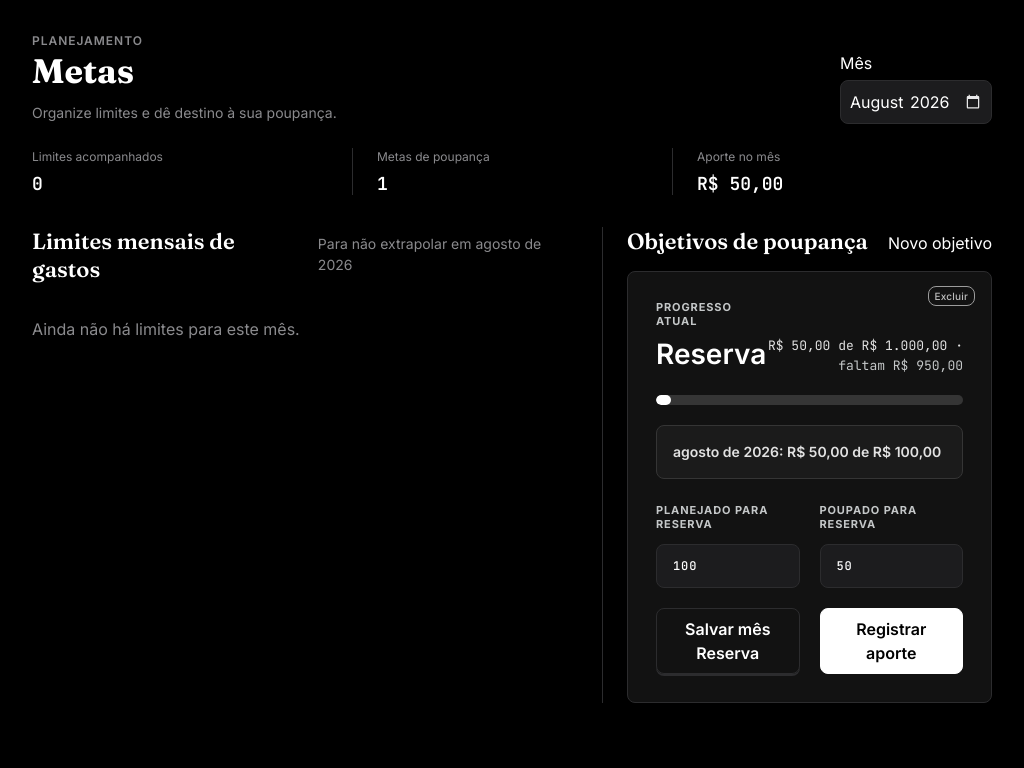
Test case: GoalsPage › keeps a goal after rejected deletion
The image size is (1024, 768).
Click the button with aria-label "Excluir objetivo Reserva" at (951, 296), box [928,286,975,306]
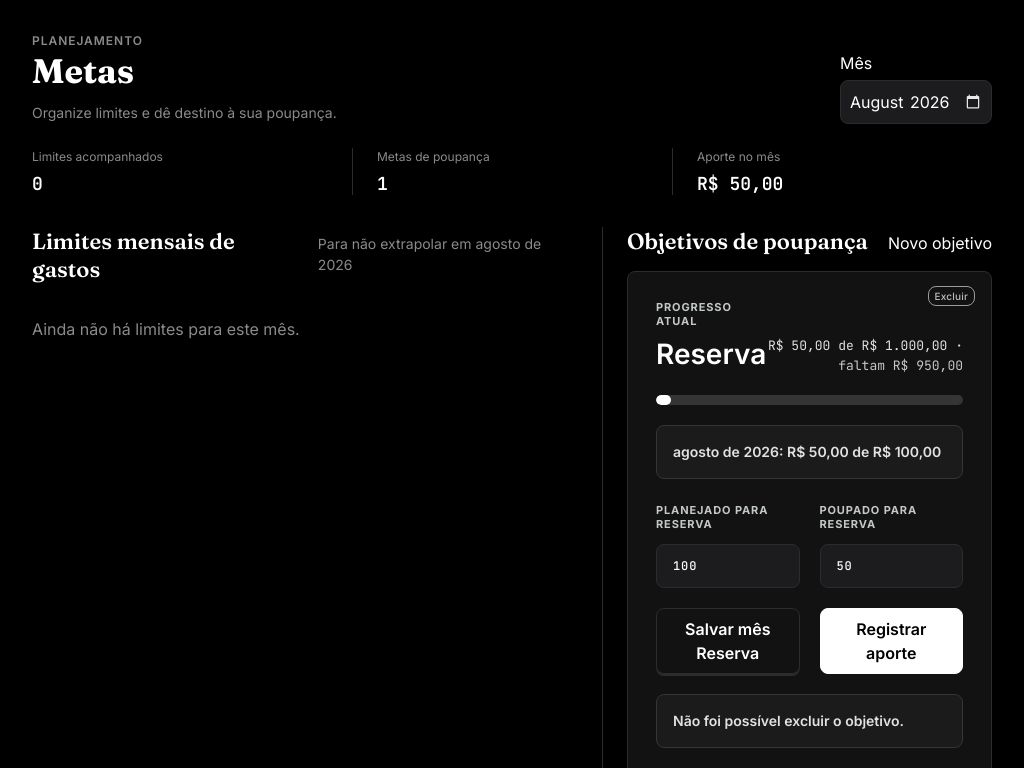
Expected: the heading "Reserva" is shown, [656,336,723,370]
Now the message reads "Não foi possível excluir o objetivo.", box [673,712,904,729]
